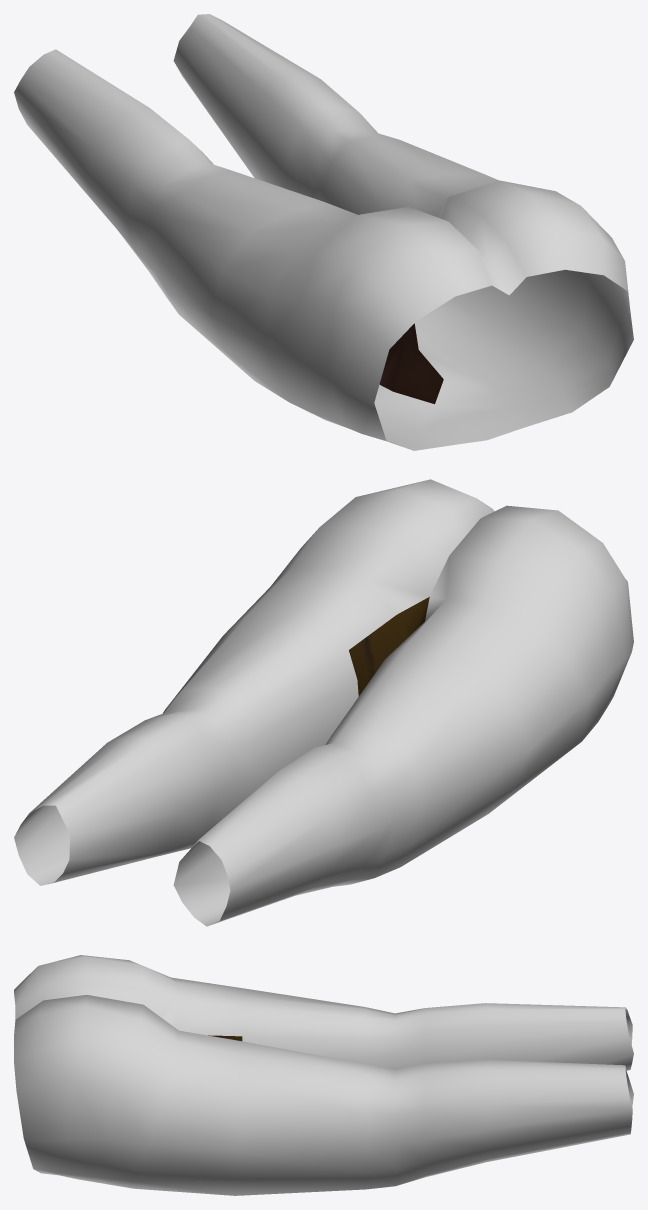
File: pants.fbx
3 views of the same model, one above another, from view 1: azimuth 30°, elevation 25°; view 2: azimuth 150°, elevation 25°; view 3: azimuth 270°, elevation 25° (orthographic). The views are drawn at different scales.
Visible parts, largest first — view 1: pants; view 2: pants; view 3: pants.
Part boxes in pixels (x1,y1,x2,y2): pants: (14, 14, 633, 450); pants: (14, 479, 633, 926); pants: (14, 955, 633, 1195).
Bounding box in the file's own units: 0.3657 × 0.2414 × 0.7563.
